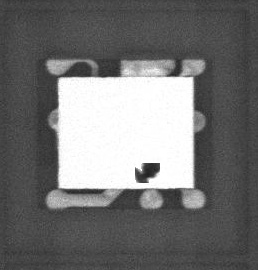DIE_INK: (133, 160, 161, 183)
